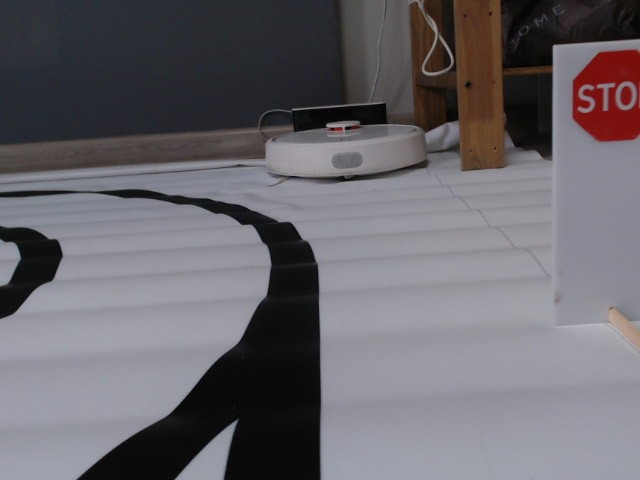Stop: (570, 49, 640, 144)
